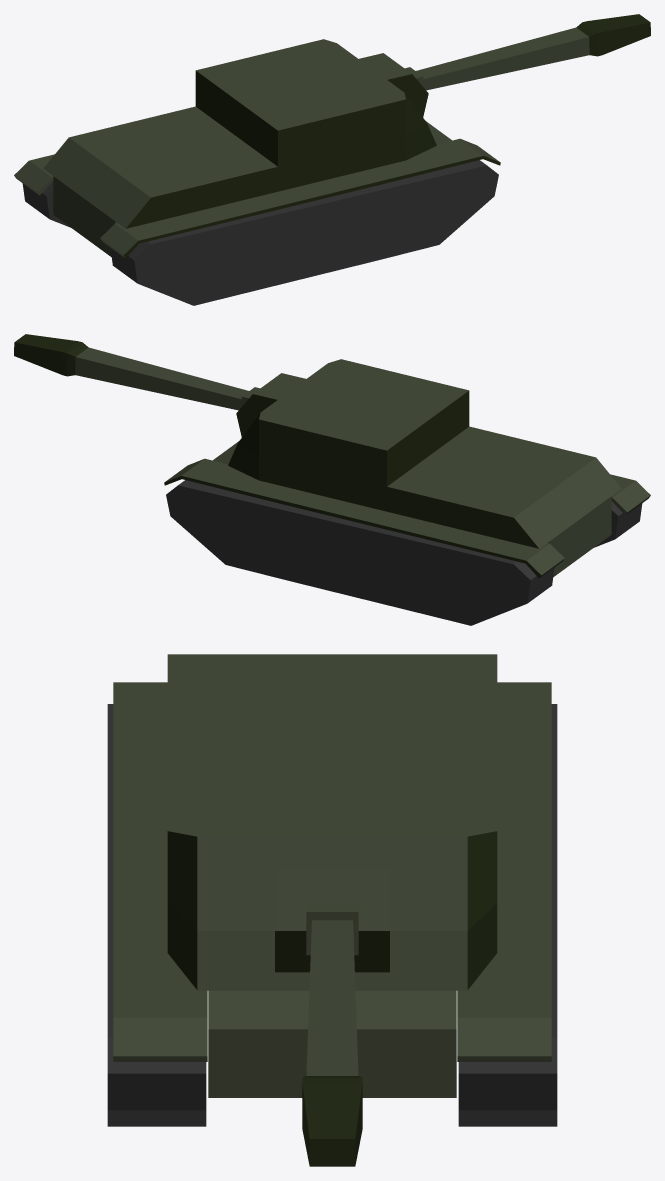
File: ussr_pt_3.fbx
3 renders of one model, top to bottom at view 1: azimuth 30°, elevation 25°; view 2: azimuth 150°, elevation 25°; view 3: azimuth 270°, elevation 25°, orthographic. The views are drawn at different scales.
Visible parts, largest first — view 1: Cube; view 2: Cube; view 3: Cube.
Boxes of the visible parts, <box> form: Cube: <box>14,14,650,305</box>; Cube: <box>14,334,650,625</box>; Cube: <box>107,654,557,1166</box>.
Size of the model in its own units: 763 by 2259 by 524.
